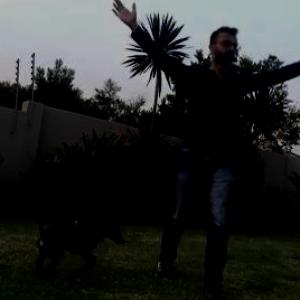takeoff: (124, 0, 299, 294)
